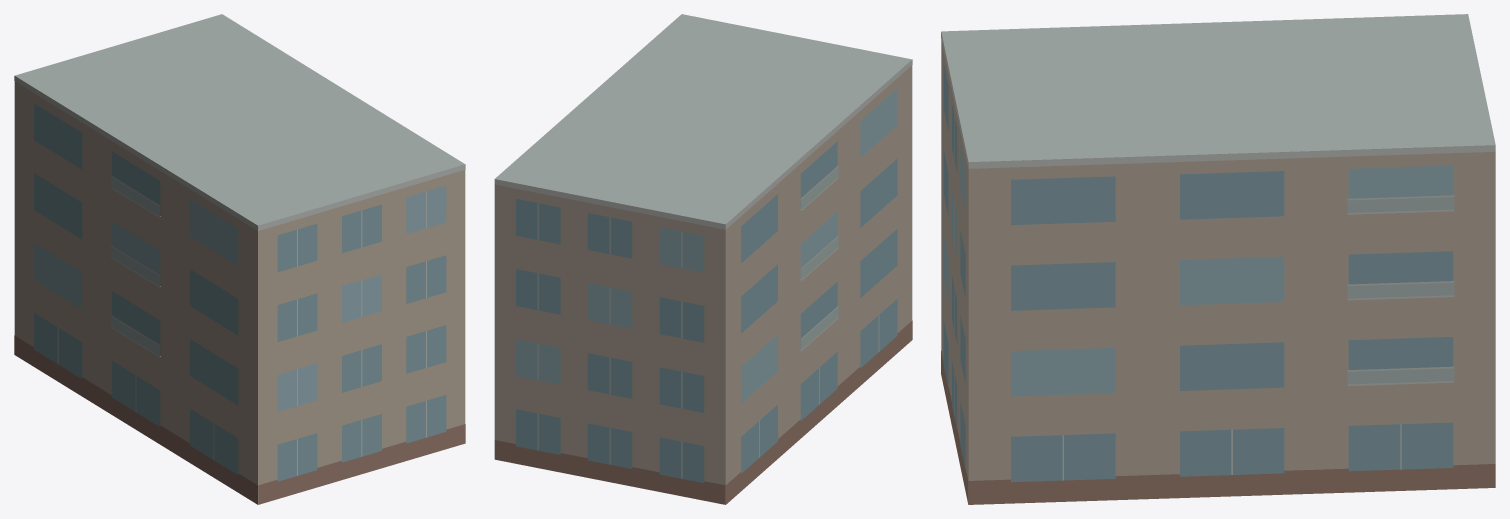
The model's file is survey-upis-32750116.glb.
3 renders of one model, left to right at view 1: azimuth 30°, elevation 25°; view 2: azimuth 150°, elevation 25°; view 3: azimuth 270°, elevation 25°, orthographic. The views are drawn at different scales.
Parts seen in each view (by area): view 1: survey-upis-32750116.tmp; view 2: survey-upis-32750116.tmp; view 3: survey-upis-32750116.tmp.
Boxes of the visible parts, <box> form: survey-upis-32750116.tmp: <box>14,14,465,504</box>; survey-upis-32750116.tmp: <box>494,14,912,504</box>; survey-upis-32750116.tmp: <box>941,14,1495,504</box>.
Size of the model in its own units: 11.69 by 12.6 by 18.49.
